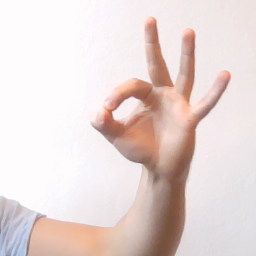O: (87, 14, 233, 175)
